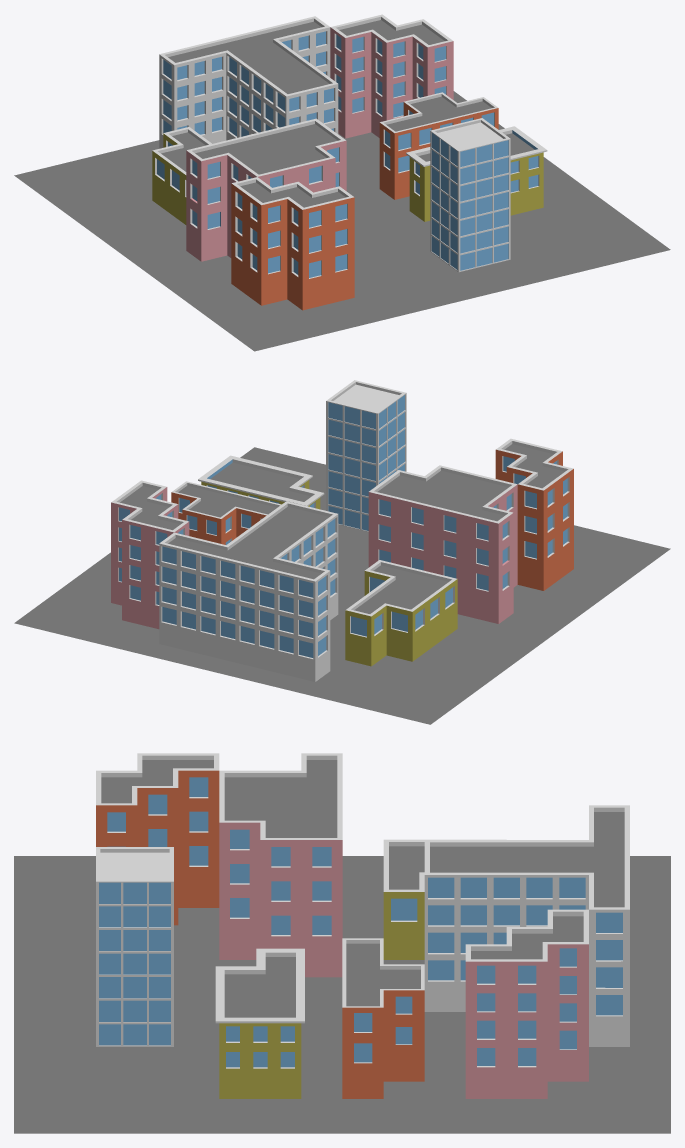
The model's file is LowPolyCITY.glb.
The picture shows the model from 3 angles, top to bottom: view 1: azimuth 30°, elevation 25°; view 2: azimuth 150°, elevation 25°; view 3: azimuth 270°, elevation 25°; orthographic projection. The views are drawn at different scales.
Visible parts, largest first — view 1: City; view 2: City; view 3: City.
Boxes of the visible parts, x1=… form: City: x1=14, y1=14, x2=670, y2=351; City: x1=14, y1=380, x2=670, y2=724; City: x1=14, y1=753, x2=670, y2=1133.
Bounding box in the file's own units: 4.2 × 1.16 × 4.2.
